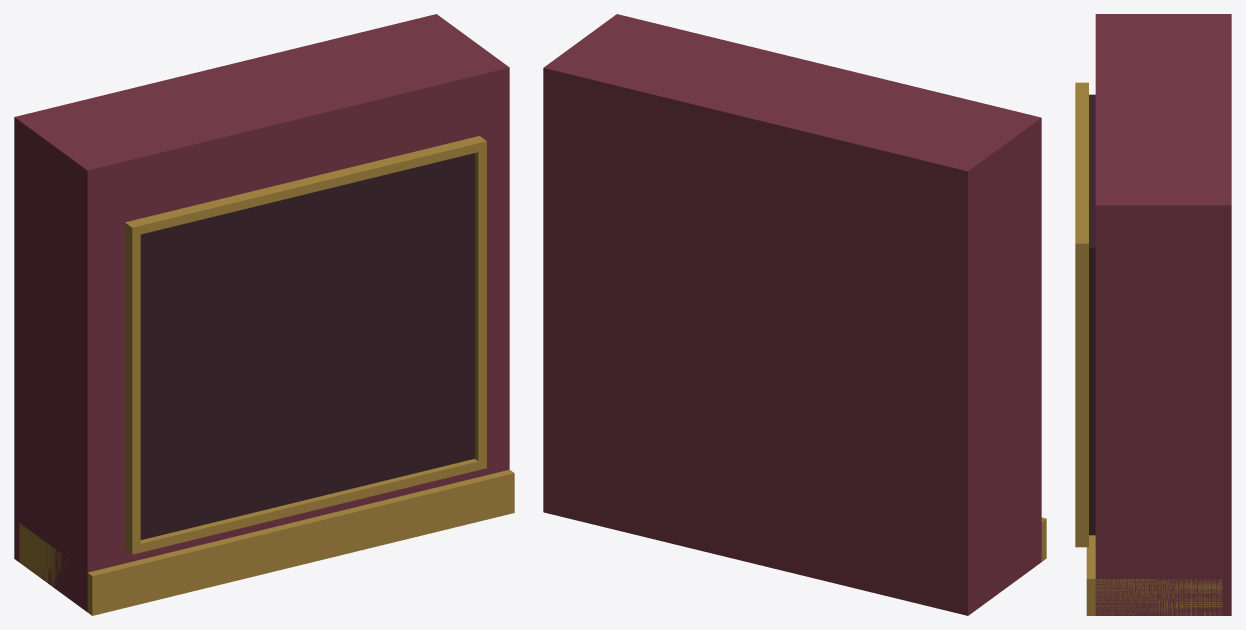
Rendered from criminal_wall.glb.
3 renders of one model, left to right at view 1: azimuth 30°, elevation 25°; view 2: azimuth 150°, elevation 25°; view 3: azimuth 270°, elevation 25°, orthographic. The views are drawn at different scales.
Parts seen in each view (by area): view 1: criminal_wall; view 2: criminal_wall; view 3: criminal_wall.
Boxes of the visible parts, box(x1,y1,x2,y2) form: criminal_wall: box(14, 14, 514, 615); criminal_wall: box(543, 14, 1046, 615); criminal_wall: box(1075, 14, 1231, 615).
Size of the model in its own units: 1 by 1 by 0.345.
